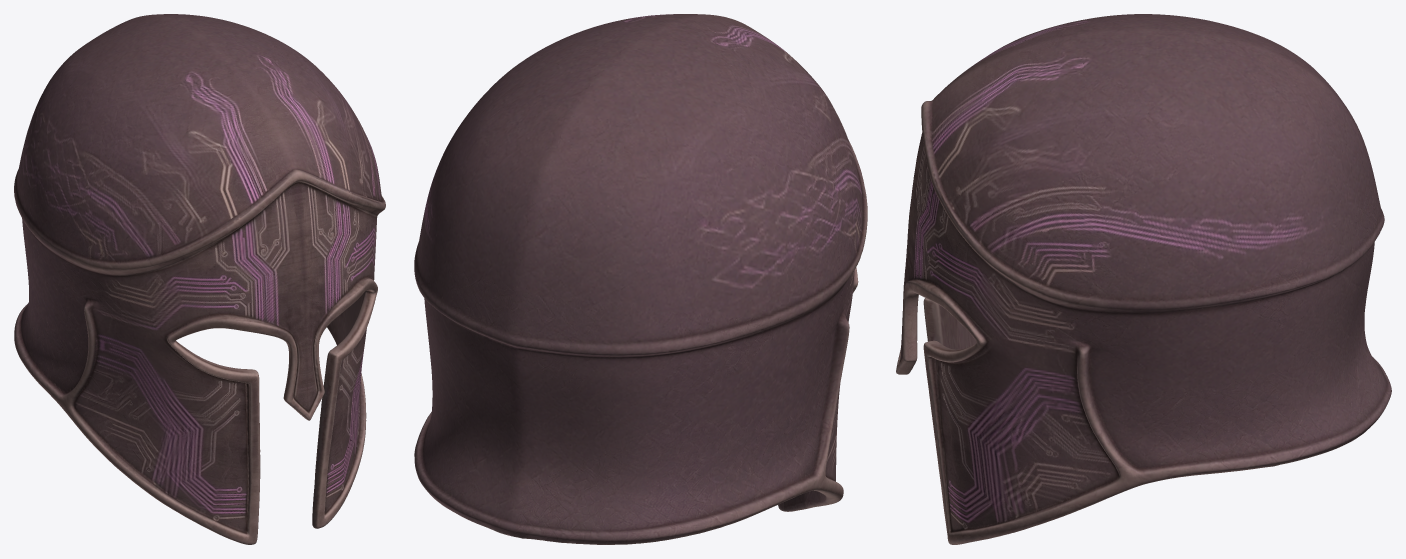
The model's file is 3d-helmet.glb.
The picture shows the model from 3 angles, left to right: view 1: azimuth 30°, elevation 25°; view 2: azimuth 150°, elevation 25°; view 3: azimuth 270°, elevation 25°; orthographic projection. The views are drawn at different scales.
Bounding box in the file's own units: 1.4 × 1.9 × 1.73.
1 material, 1 textured.
